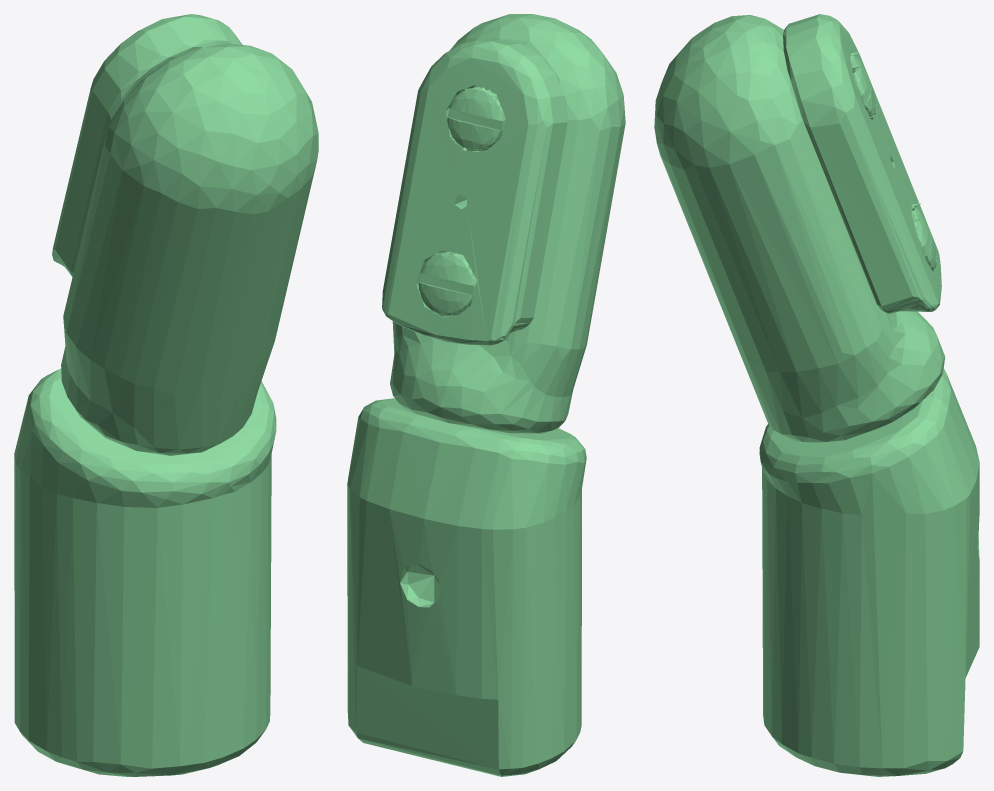
File: biotac_decimated.dae
3 views of the same model, side by side, from view 1: azimuth 30°, elevation 25°; view 2: azimuth 150°, elevation 25°; view 3: azimuth 270°, elevation 25° (orthographic). The views are drawn at different scales.
Visible parts, largest first — view 1: Biotac_Decimated; view 2: Biotac_Decimated; view 3: Biotac_Decimated.
Part boxes in pixels (x1=…): Biotac_Decimated: x1=14, y1=14, x2=318, y2=776; Biotac_Decimated: x1=347, y1=14, x2=625, y2=776; Biotac_Decimated: x1=654, y1=14, x2=979, y2=776.
Bounding box in the file's own units: 0.6302 × 0.824 × 1.98.
